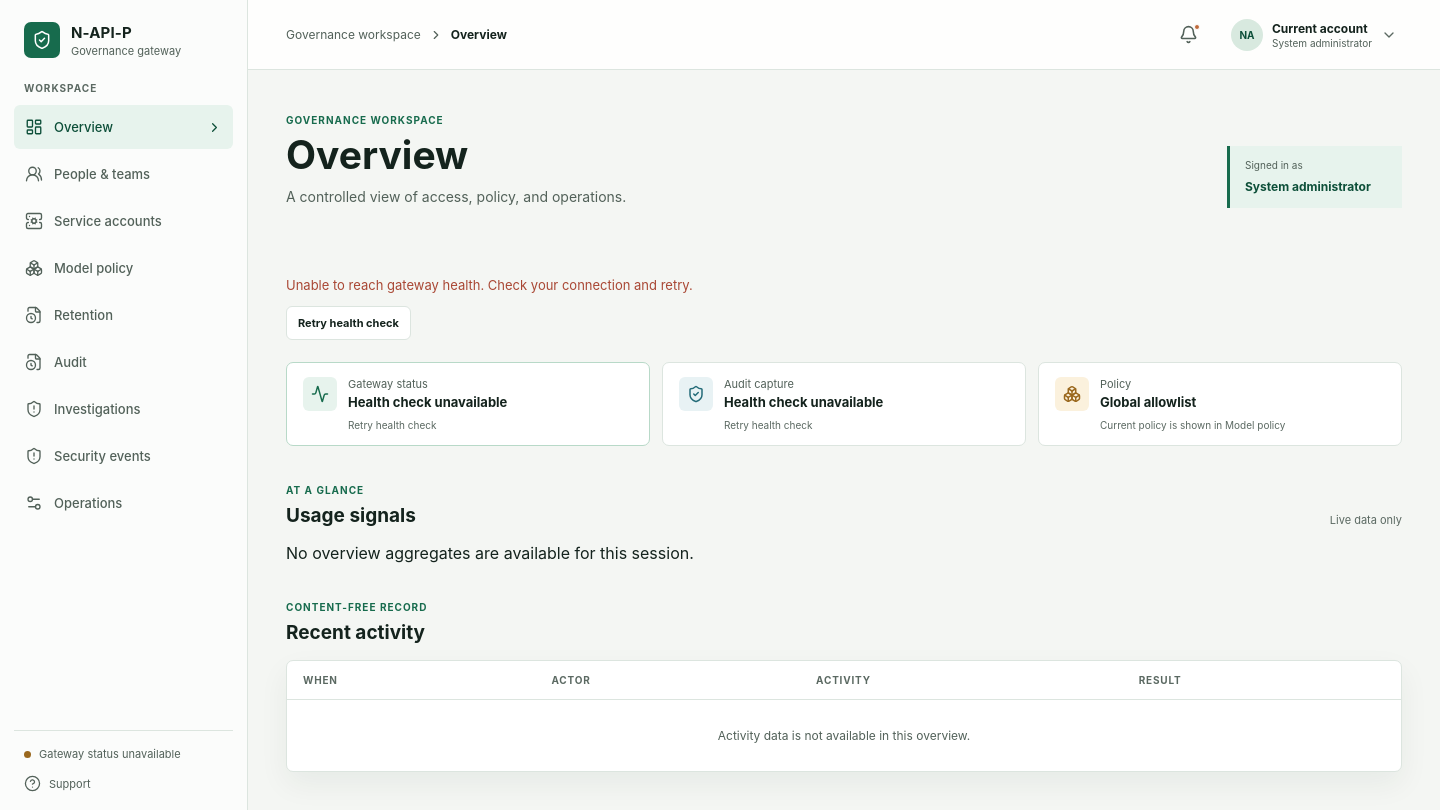
App › keeps the system administrator work surface scannable and accessible
Expected: the table named "Recent activity" is shown, [287, 661, 1401, 771]
Expected: the text "Activity data is not available in this overview." is shown, [287, 699, 1401, 771]
Click the button with aria-label "Open session details".
click(1312, 34)  # box [1223, 12, 1402, 56]
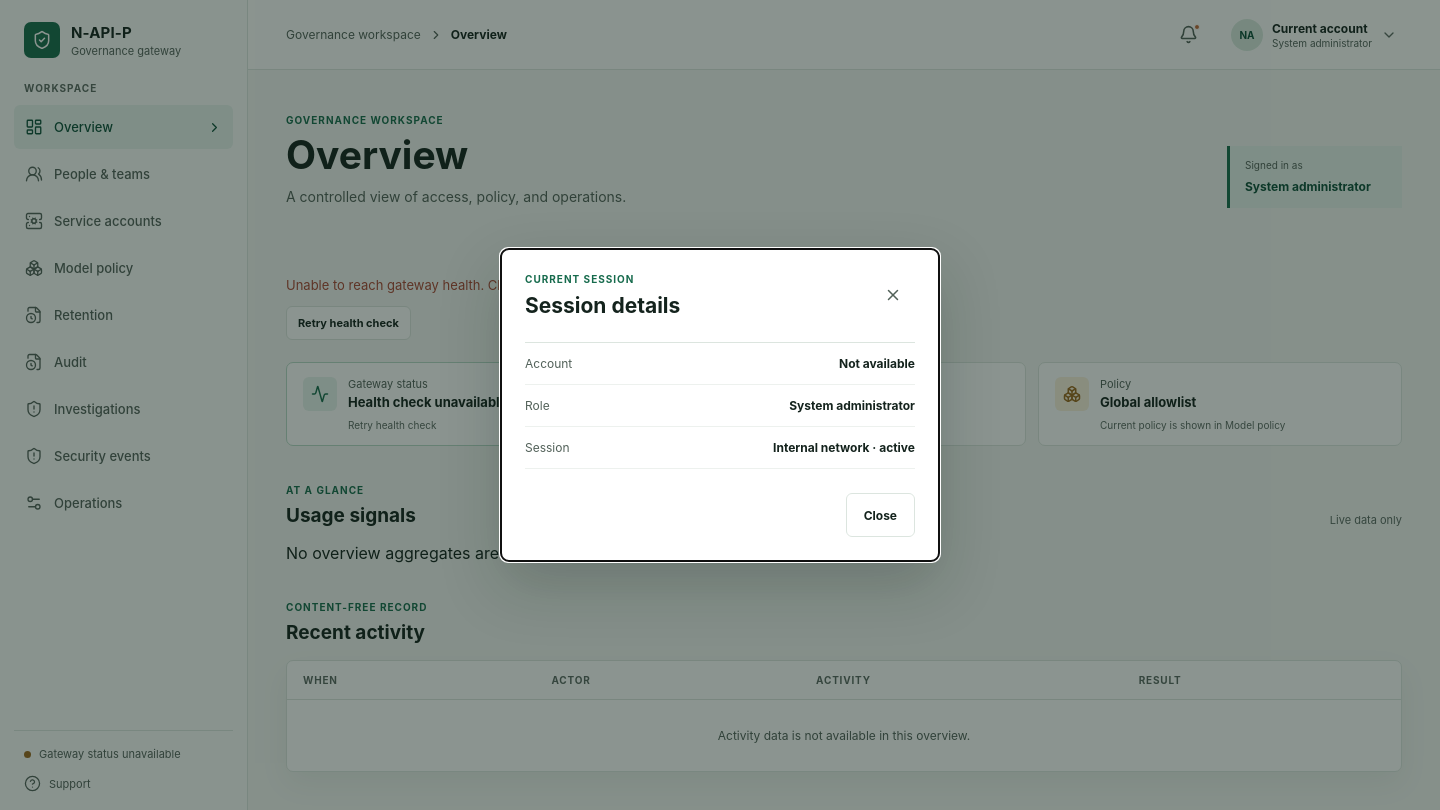
Expected: the dialog "Session details" is shown, [500, 248, 940, 562]
Click the button named "Close session details".
click(893, 295)  # box [871, 273, 915, 317]
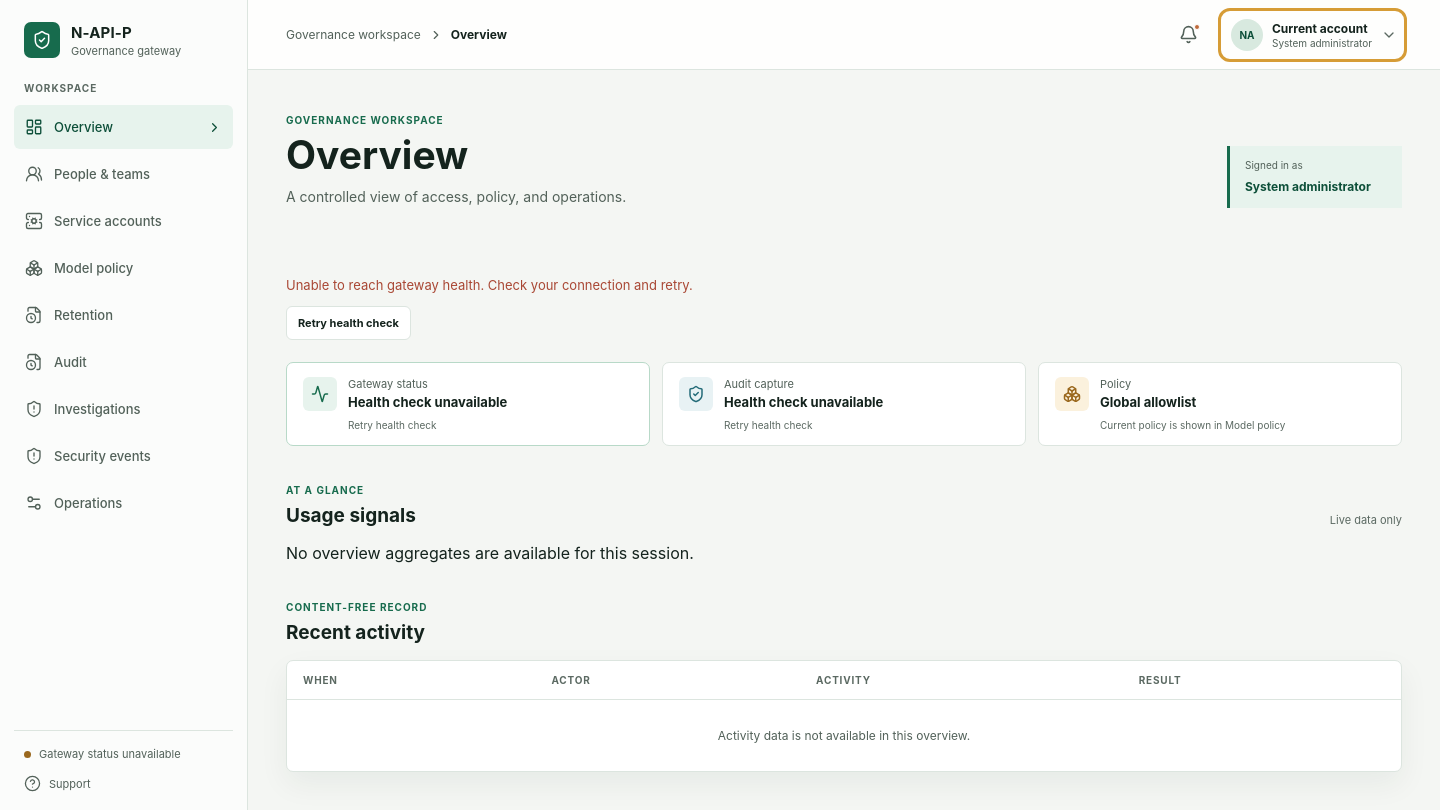
Expected: the heading "Session details" is gone
